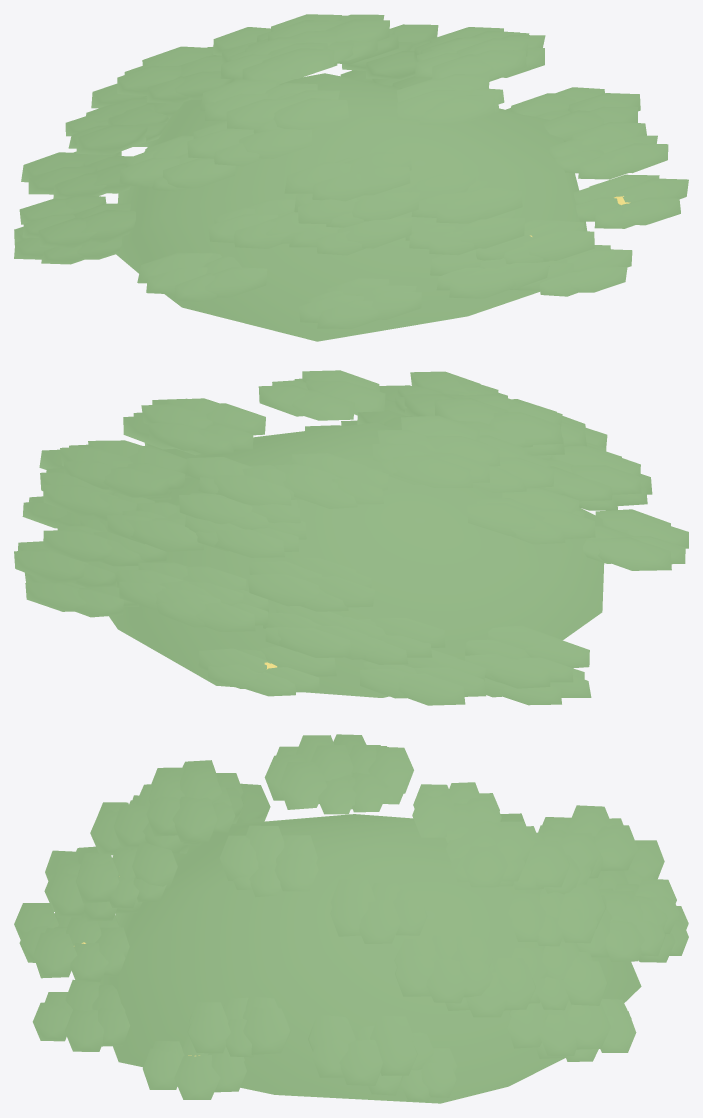
Rendered from Blender_Naupaka_3.glb.
3 views of the same model, one above another, from view 1: azimuth 30°, elevation 25°; view 2: azimuth 150°, elevation 25°; view 3: azimuth 270°, elevation 25° (orthographic). The views are drawn at different scales.
Parts seen in each view (by area): view 1: Blender_Naupaka_3; view 2: Blender_Naupaka_3; view 3: Blender_Naupaka_3.
Part boxes in pixels (left/top/right/bottom): Blender_Naupaka_3: left=14, top=14, right=688, bottom=341; Blender_Naupaka_3: left=14, top=370, right=688, bottom=705; Blender_Naupaka_3: left=14, top=734, right=688, bottom=1103.
Size of the model in its own units: 3.9 by 1.12 by 3.53.
